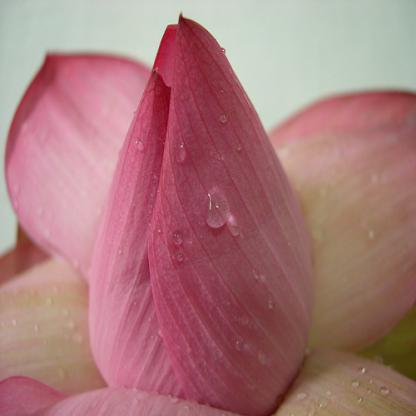ROSE-MAWAR: (1, 7, 416, 414)
